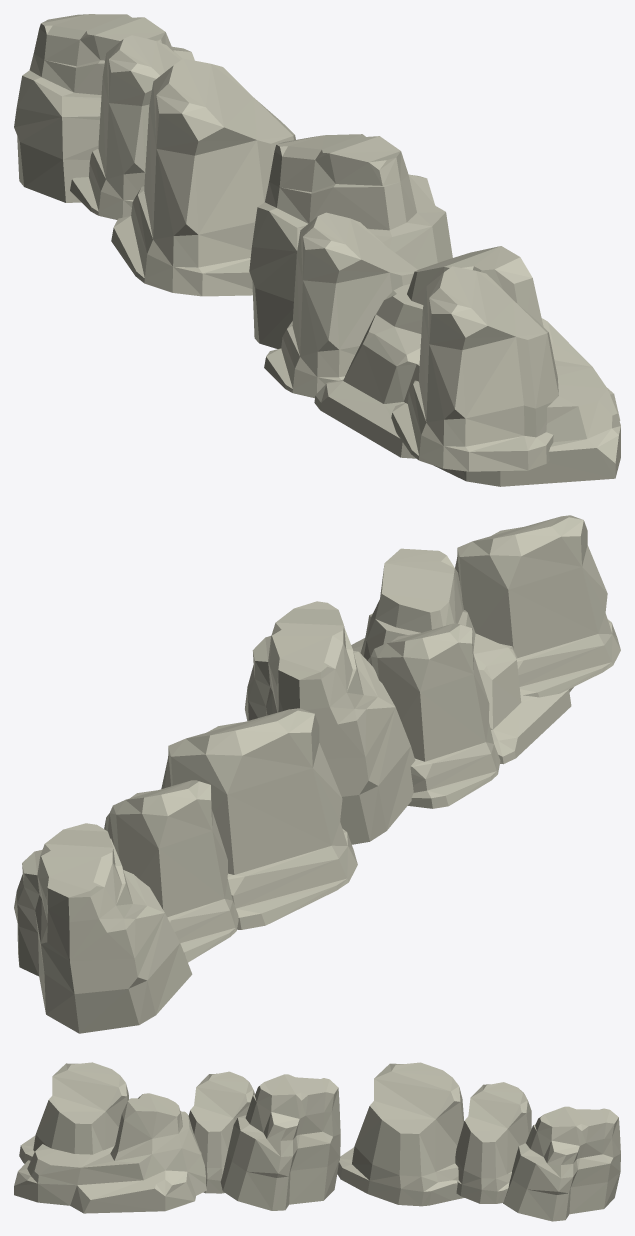
Rendered from mountains.fbx.
3 views of the same model, one above another, from view 1: azimuth 30°, elevation 25°; view 2: azimuth 150°, elevation 25°; view 3: azimuth 270°, elevation 25° (orthographic). The views are drawn at different scales.
Visible parts, largest first — view 1: Unity_Forest:Mountain12, Unity_Forest:Mountain8, Unity_Forest:Mountain15, Unity_Forest:Mountain6, Unity_Forest:Mountain5, Unity_Forest:Mountain10, Unity_Forest:Mountain9; view 2: Unity_Forest:Mountain12, Unity_Forest:Mountain10, Unity_Forest:Mountain6, Unity_Forest:Mountain8, Unity_Forest:Mountain5, Unity_Forest:Mountain9, Unity_Forest:Mountain15; view 3: Unity_Forest:Mountain15, Unity_Forest:Mountain12, Unity_Forest:Mountain6, Unity_Forest:Mountain10, Unity_Forest:Mountain8, Unity_Forest:Mountain9, Unity_Forest:Mountain5.
Boxes of the visible parts, x1=… form: Unity_Forest:Mountain12: x1=111, y1=58, x2=295, y2=296; Unity_Forest:Mountain8: x1=391, y1=266, x2=558, y2=471; Unity_Forest:Mountain15: x1=314, y1=246, x2=620, y2=486; Unity_Forest:Mountain6: x1=249, y1=134, x2=452, y2=348; Unity_Forest:Mountain5: x1=264, y1=212, x2=417, y2=398; Unity_Forest:Mountain10: x1=14, y1=14, x2=194, y2=202; Unity_Forest:Mountain9: x1=70, y1=35, x2=181, y2=219; Unity_Forest:Mountain12: x1=161, y1=708, x2=357, y2=929; Unity_Forest:Mountain10: x1=14, y1=823, x2=192, y2=1033; Unity_Forest:Mountain6: x1=245, y1=601, x2=415, y2=844; Unity_Forest:Mountain8: x1=455, y1=515, x2=620, y2=697; Unity_Forest:Mountain5: x1=367, y1=623, x2=500, y2=808; Unity_Forest:Mountain9: x1=104, y1=780, x2=238, y2=962; Unity_Forest:Mountain15: x1=351, y1=548, x2=573, y2=764; Unity_Forest:Mountain15: x1=14, y1=1093, x2=206, y2=1213; Unity_Forest:Mountain12: x1=337, y1=1062, x2=464, y2=1206; Unity_Forest:Mountain6: x1=220, y1=1074, x2=340, y2=1210; Unity_Forest:Mountain10: x1=503, y1=1106, x2=620, y2=1221; Unity_Forest:Mountain8: x1=19, y1=1062, x2=129, y2=1163; Unity_Forest:Mountain9: x1=455, y1=1082, x2=531, y2=1203; Unity_Forest:Mountain5: x1=188, y1=1071, x2=254, y2=1193.
Bounding box in the file's own units: 249 × 228 × 997.
1 material, 1 textured.
